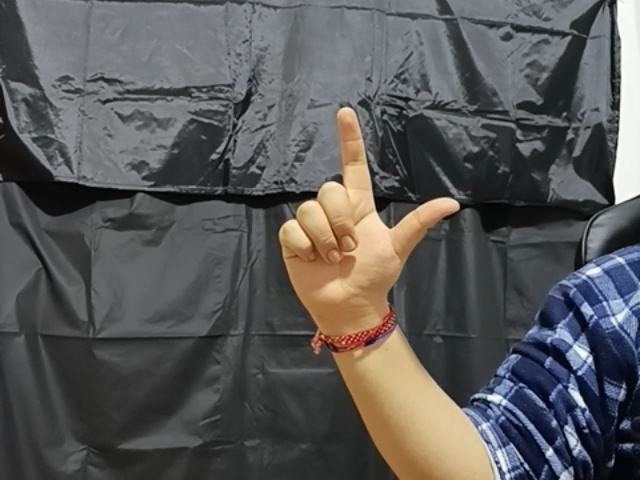L: (271, 107, 463, 306)
